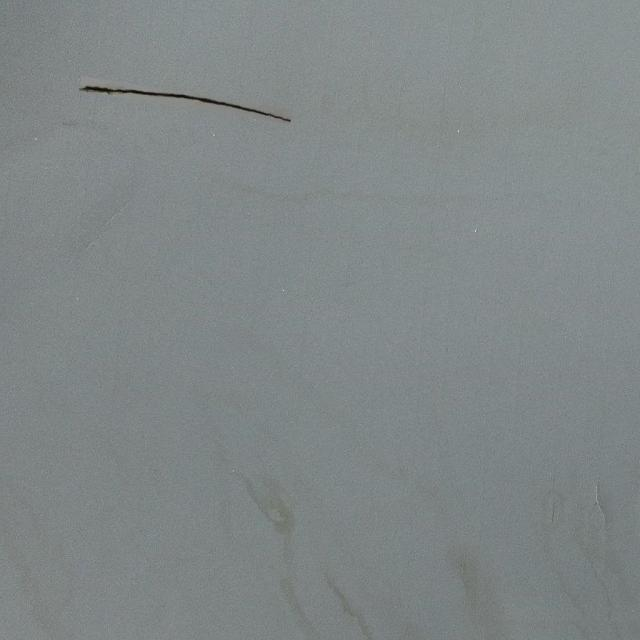crack: (78, 82, 288, 119)
